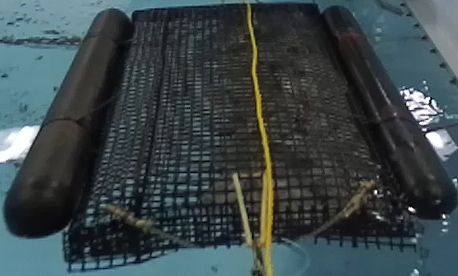bag: (3, 4, 458, 273)
